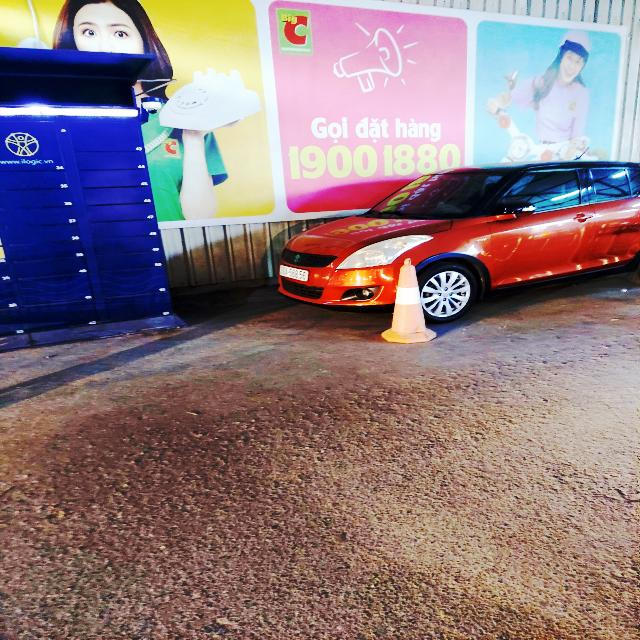license_plate: (278, 264, 312, 285)
